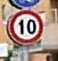limite 10: (7, 10, 43, 45)
